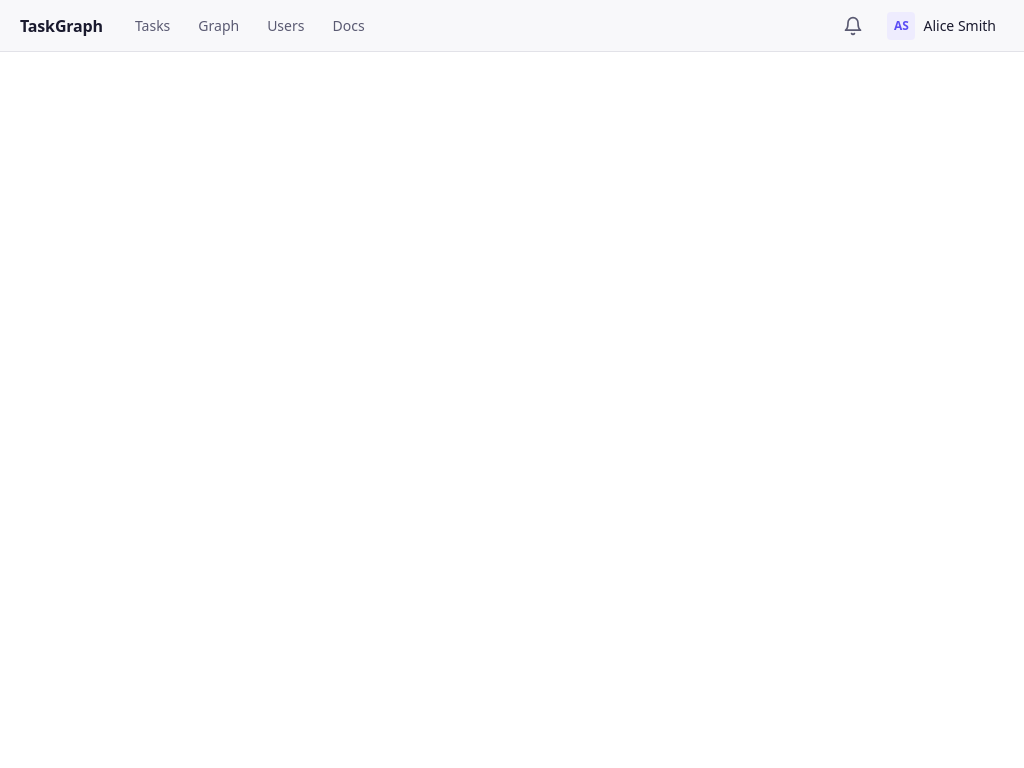
Statusbar › opens notification panel on notifications button click
Step 1. Click the button named "notifications" → (854, 26), box [836,8,872,44]
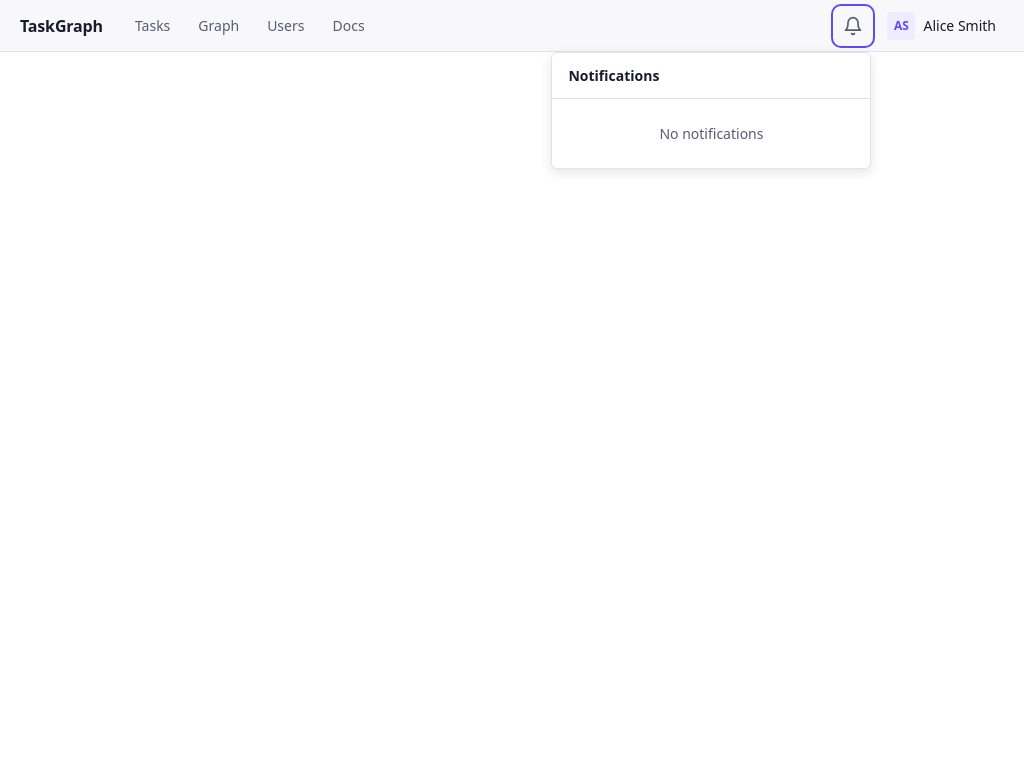
Expected: the dialog "Notifications No notifications" is shown, [552,52,872,168]
